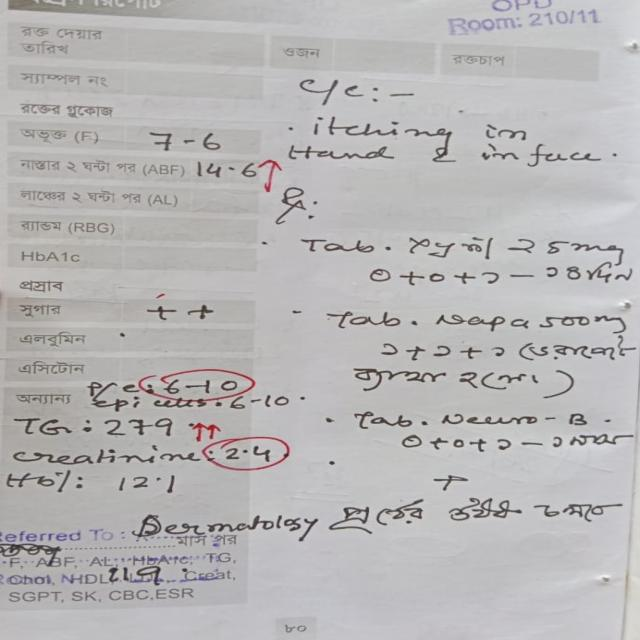Napa: (425, 303, 541, 336)
Neurobest: (427, 404, 596, 434)
Xyril: (396, 227, 507, 267)
